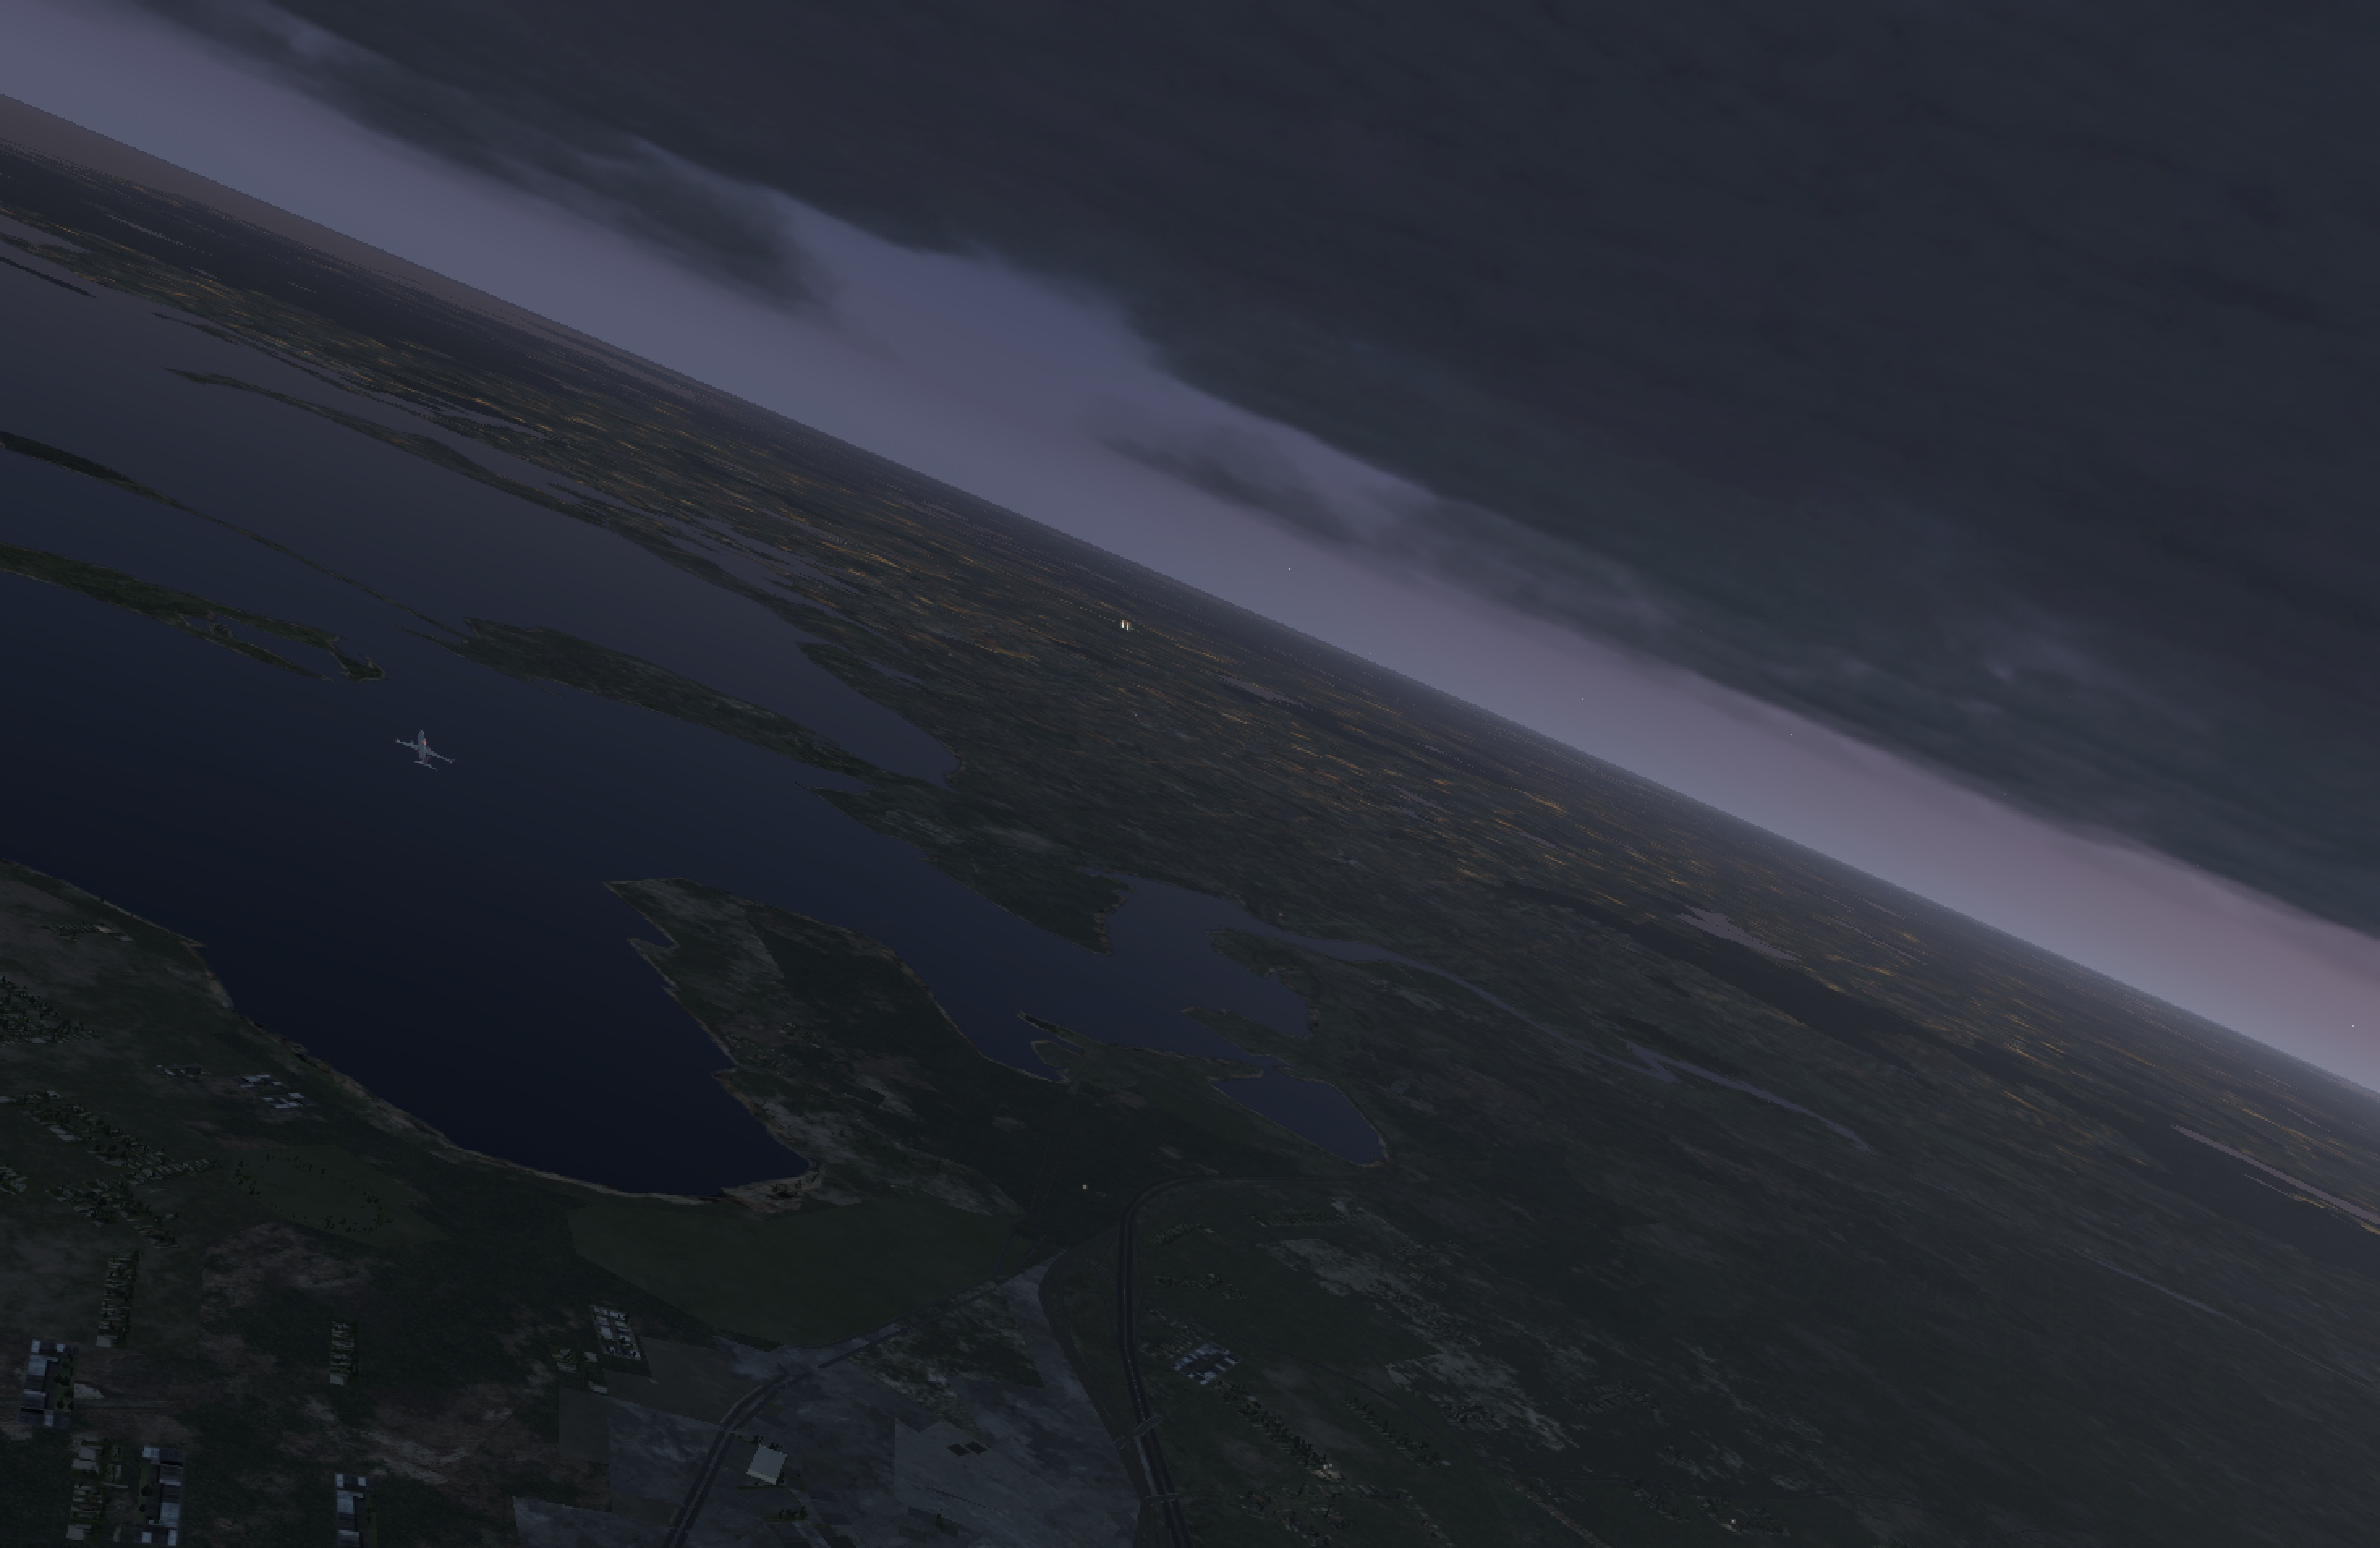aircraft: (390, 736, 453, 760)
